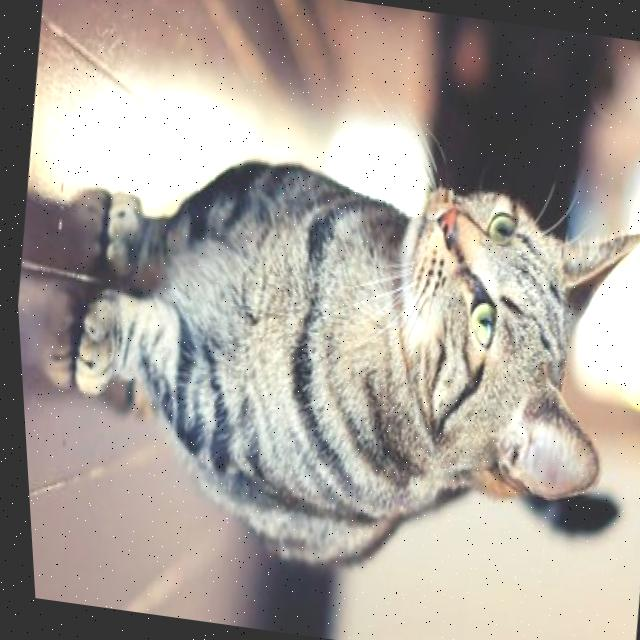Munchkin: (29, 123, 640, 618)
